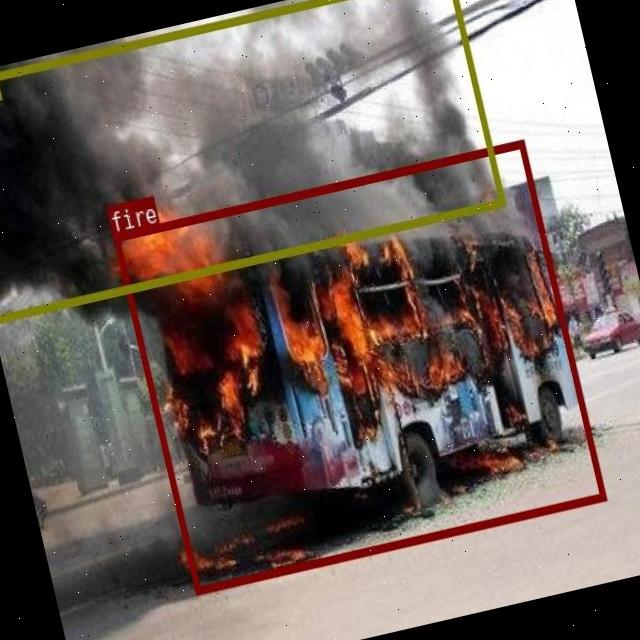fire: (112, 138, 605, 592)
smoke: (0, 0, 504, 324)
